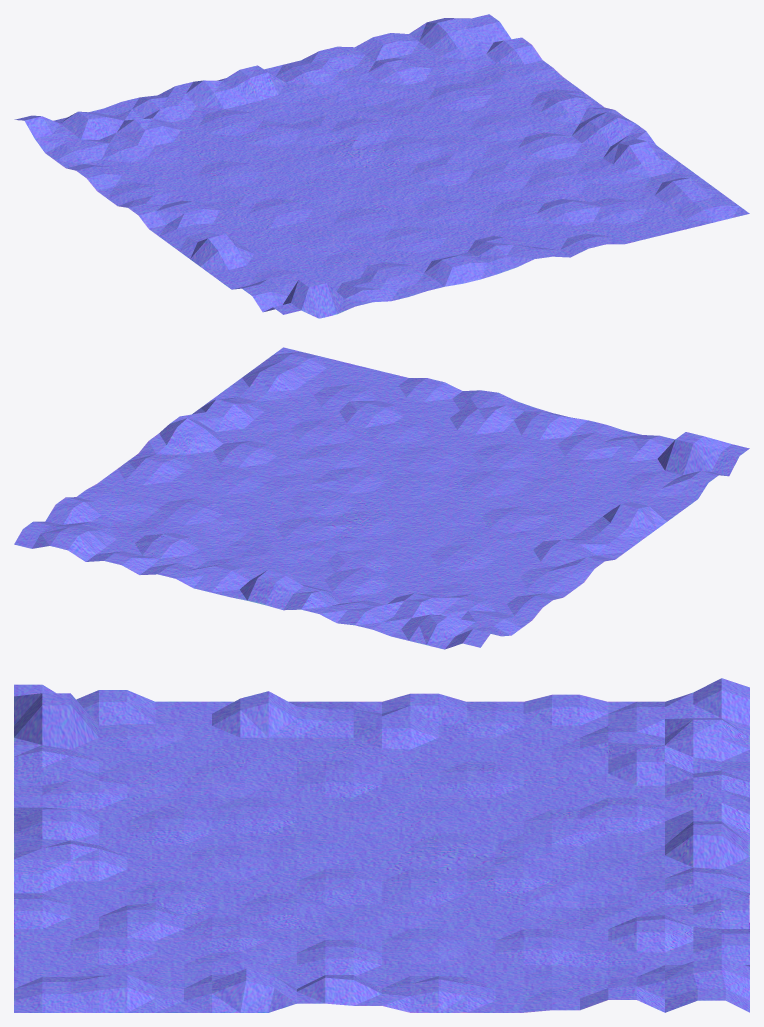
File: Ground.obj
3 renders of one model, top to bottom at view 1: azimuth 30°, elevation 25°; view 2: azimuth 150°, elevation 25°; view 3: azimuth 270°, elevation 25°, orthographic. The views are drawn at different scales.
Visible parts, largest first — view 1: 平面; view 2: 平面; view 3: 平面.
Part boxes in pixels (<box>): 平面: <box>14,14,749,318</box>; 平面: <box>14,347,749,649</box>; 平面: <box>14,678,749,1012</box>.
Size of the model in its own units: 200 by 10.79 by 200.
